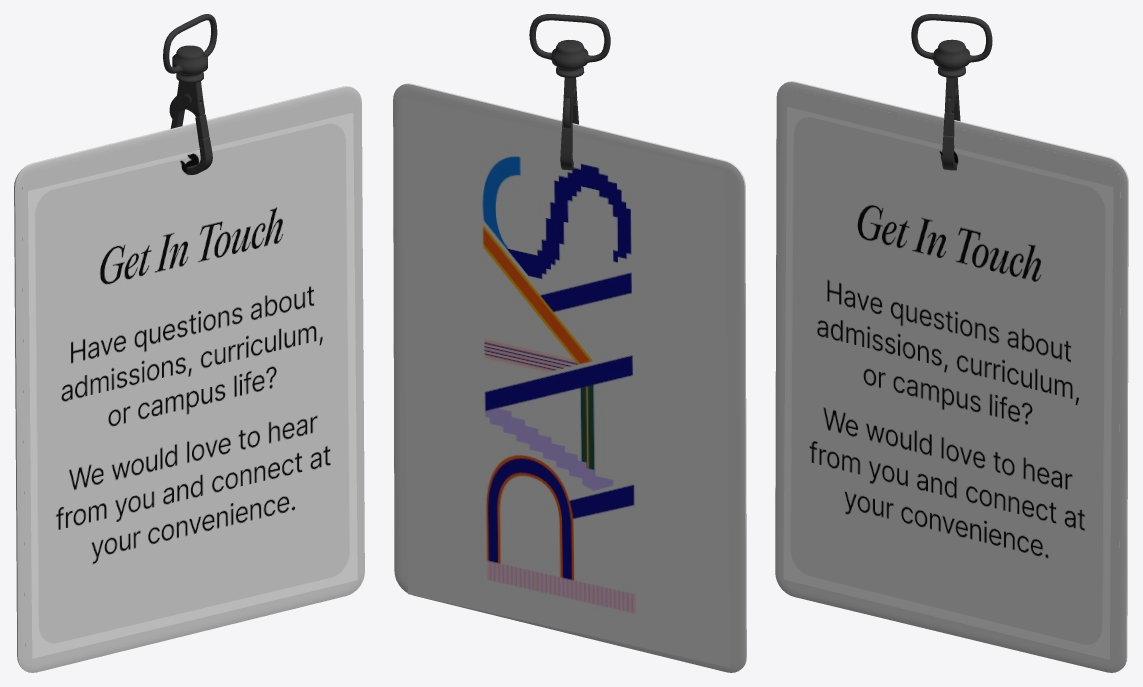
3 views of the same model, side by side, from view 1: azimuth 30°, elevation 25°; view 2: azimuth 150°, elevation 25°; view 3: azimuth 330°, elevation 25° (orthographic).
Parts seen in each view (by area): view 1: card.001, clip.001, clamp.001; view 2: card.001, clip.001, clamp.001; view 3: card.001, clip.001, clamp.001.
Boxes of the visible parts, box(x1,y1,x2,y2) form: card.001: box(14, 86, 364, 672); clip.001: box(163, 14, 217, 83); clamp.001: box(169, 81, 212, 174); card.001: box(393, 83, 746, 672); clip.001: box(529, 14, 610, 77); clamp.001: box(560, 77, 578, 170); card.001: box(775, 81, 1128, 672); clip.001: box(911, 14, 992, 77); clamp.001: box(942, 77, 960, 170).
Size of the model in its own units: 0.7182 by 1.21 by 0.0903.
Materials: 4 (2 with a texture image).
